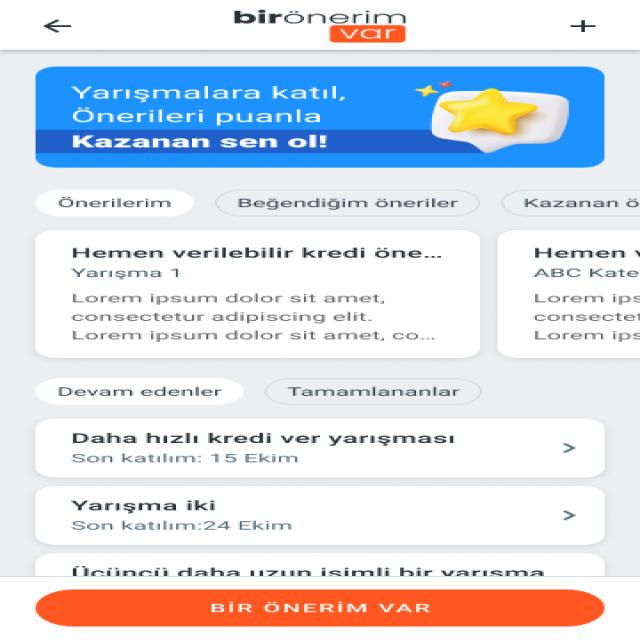QLabel: (63, 289, 442, 346), (66, 430, 460, 448), (63, 244, 448, 262), (525, 292, 640, 344), (62, 563, 547, 574), (197, 597, 435, 617), (63, 518, 295, 534), (228, 196, 466, 211), (49, 383, 233, 401), (66, 452, 302, 466), (284, 386, 465, 400), (60, 498, 222, 513), (518, 243, 640, 260), (519, 264, 640, 280), (63, 264, 183, 280), (51, 196, 175, 210), (518, 197, 639, 210)
VAppBar: (0, 0, 640, 51)
VBtn: (36, 588, 604, 628)
VCard: (34, 230, 484, 359), (496, 230, 640, 358)
VChip: (214, 189, 482, 217), (36, 377, 244, 408), (264, 378, 483, 406), (36, 189, 194, 217), (502, 188, 640, 218)
VExpansionPanels: (34, 418, 607, 480), (34, 485, 605, 546), (33, 553, 604, 575)
VFooter: (0, 576, 638, 640)
VIcon: (36, 17, 75, 35), (548, 509, 587, 524), (550, 440, 581, 458), (566, 20, 599, 34)
VImg: (34, 65, 606, 168), (222, 6, 416, 46)
